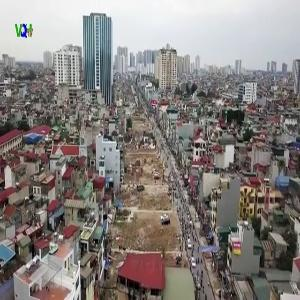drone: (184, 227, 234, 277)
